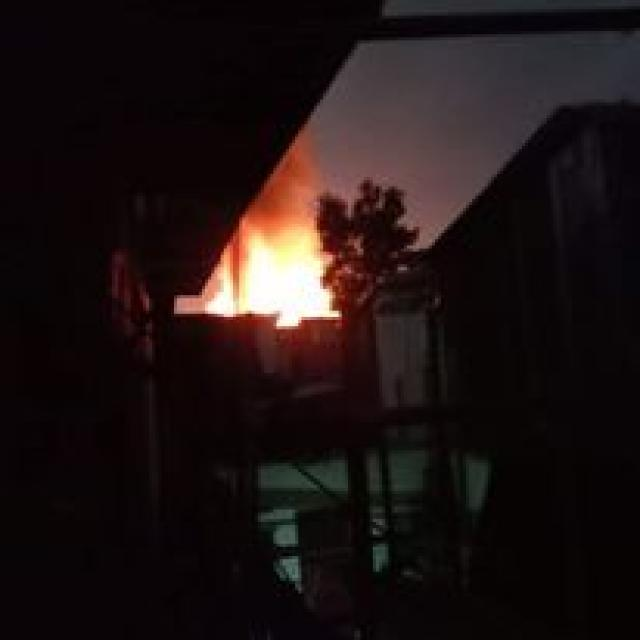Smoke: (239, 218, 341, 334)
